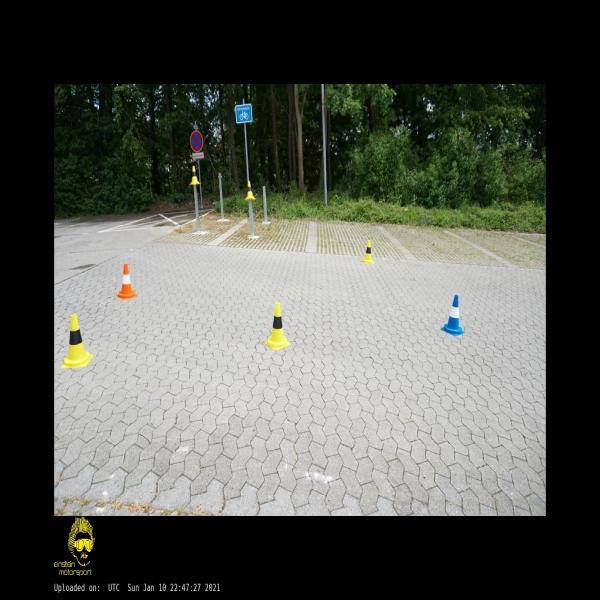blue_cone: (440, 295, 465, 336)
orange_cone: (116, 263, 136, 300)
yellow_cone: (60, 314, 94, 368), (264, 302, 290, 350), (362, 240, 373, 263), (244, 181, 255, 200), (189, 166, 200, 184)
